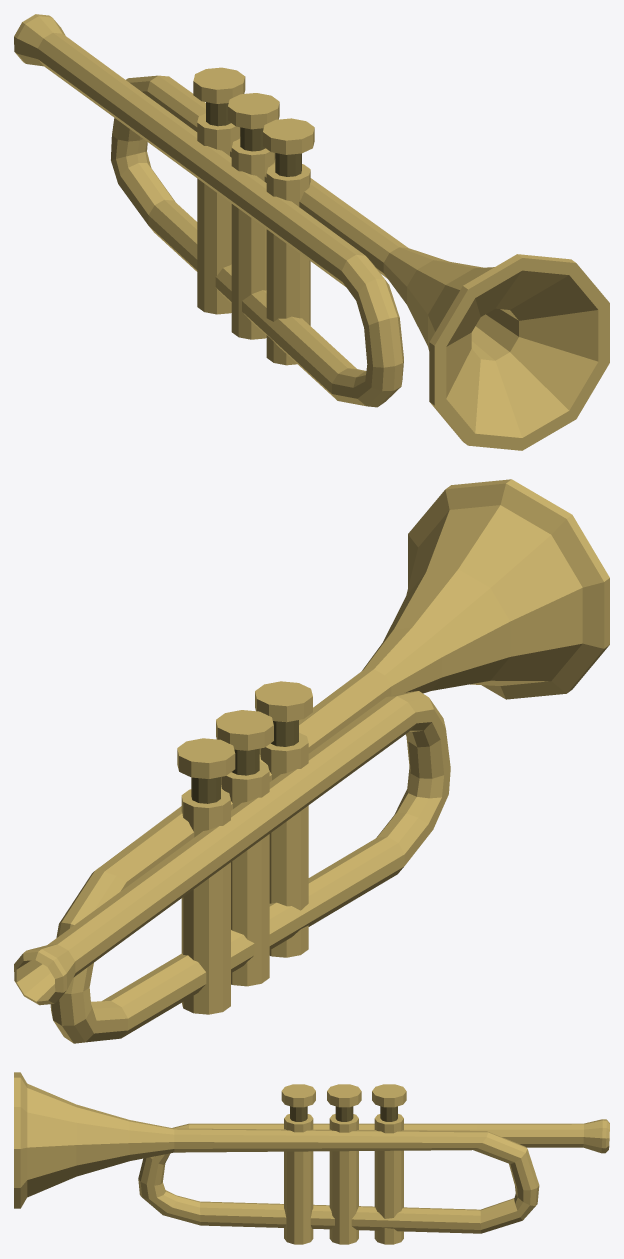
Rendered from Lowpoly_Trumpet.glb.
The picture shows the model from 3 angles, top to bottom: view 1: azimuth 30°, elevation 25°; view 2: azimuth 150°, elevation 25°; view 3: azimuth 270°, elevation 25°; orthographic projection. The views are drawn at different scales.
Visible parts, largest first — view 1: Cylinder_Material.001_0, Cylinder_Material.002_0; view 2: Cylinder_Material.001_0, Cylinder_Material.002_0; view 3: Cylinder_Material.001_0, Cylinder_Material.002_0.
Part boxes in pixels (box(x1,y1,x2,y2)): Cylinder_Material.001_0: box(14, 14, 609, 450); Cylinder_Material.002_0: box(206, 102, 301, 176); Cylinder_Material.001_0: box(14, 479, 609, 1043); Cylinder_Material.002_0: box(191, 720, 298, 803); Cylinder_Material.001_0: box(14, 1072, 609, 1244); Cylinder_Material.002_0: box(290, 1106, 397, 1121).
Size of the model in its own units: 3.58 by 4.97 by 16.19.
